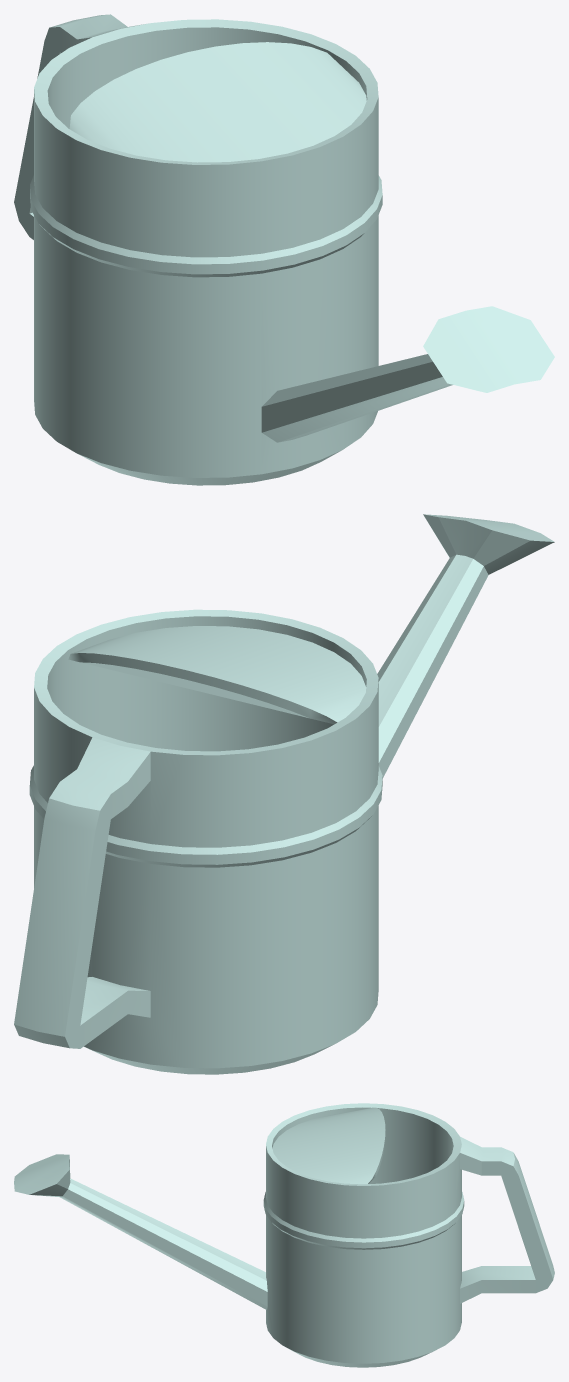
Rendered from Joro.fbx.
3 views of the same model, one above another, from view 1: azimuth 30°, elevation 25°; view 2: azimuth 150°, elevation 25°; view 3: azimuth 270°, elevation 25° (orthographic). The views are drawn at different scales.
Visible parts, largest first — view 1: Cylinder; view 2: Cylinder; view 3: Cylinder.
Part boxes in pixels (x1,y1,x2,y2): Cylinder: (14, 14, 554, 485); Cylinder: (14, 514, 554, 1074); Cylinder: (14, 1103, 554, 1367).
Bounding box in the file's own units: 2.05 × 2.29 × 5.52.
